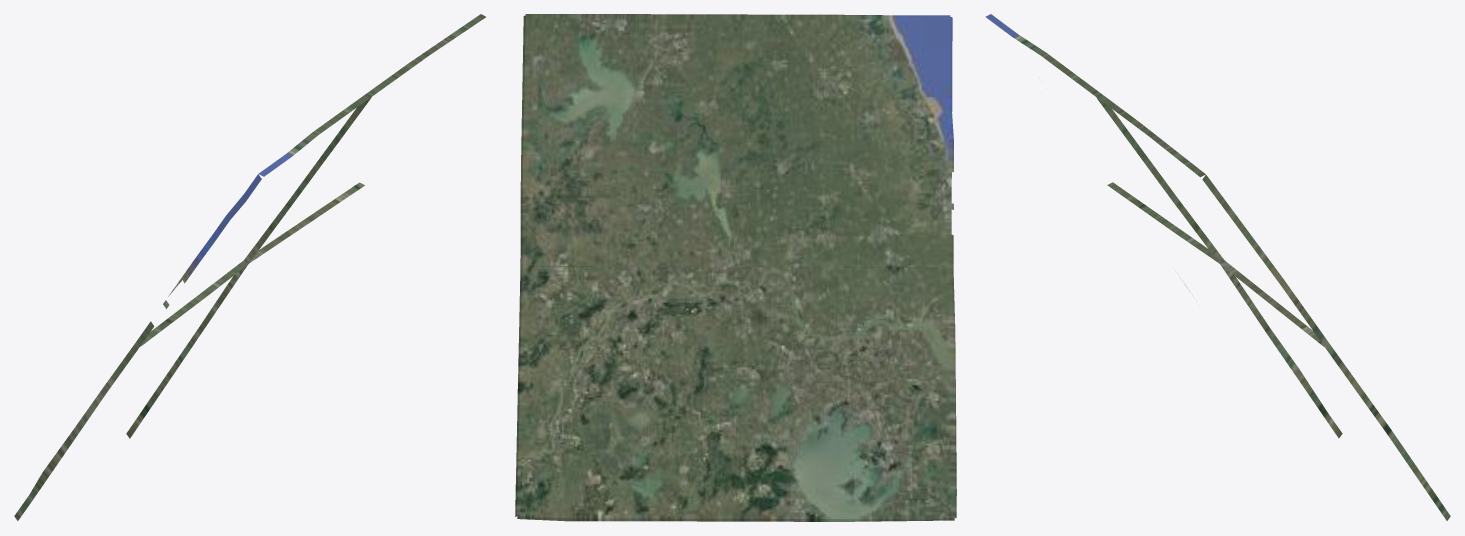
3 renders of one model, left to right at view 1: azimuth 30°, elevation 25°; view 2: azimuth 150°, elevation 25°; view 3: azimuth 270°, elevation 25°, orthographic. The views are drawn at different scales.
Bounding box in the file's own units: 316771 × 268627 × 280037.
1 material, 1 textured.
